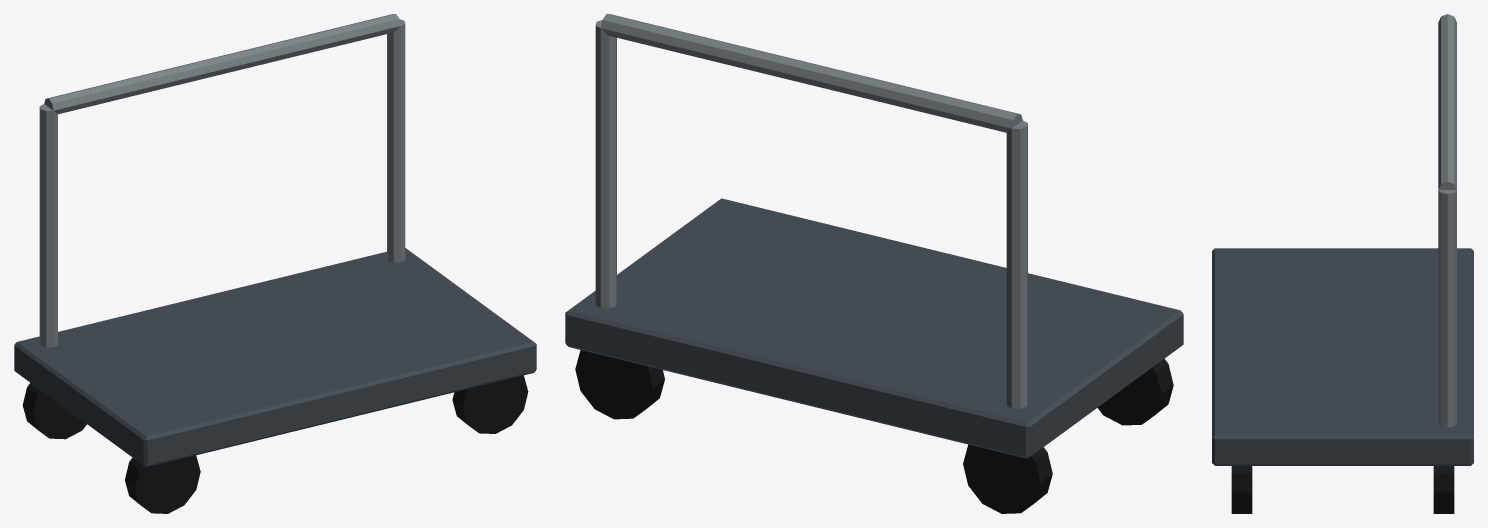
Rendered from ServiceFlatbedCart.fbx.
The picture shows the model from 3 angles, left to right: view 1: azimuth 30°, elevation 25°; view 2: azimuth 150°, elevation 25°; view 3: azimuth 270°, elevation 25°; orthographic projection. The views are drawn at different scales.
Parts seen in each view (by area): view 1: ServiceFlatbedCart; view 2: ServiceFlatbedCart; view 3: ServiceFlatbedCart.
Part boxes in pixels (<box>): ServiceFlatbedCart: <box>14,14,536,513</box>; ServiceFlatbedCart: <box>565,14,1183,513</box>; ServiceFlatbedCart: <box>1212,14,1473,513</box>.
Size of the model in its own units: 120 by 98.5 by 70.
Materials: 1 (1 with a texture image).
